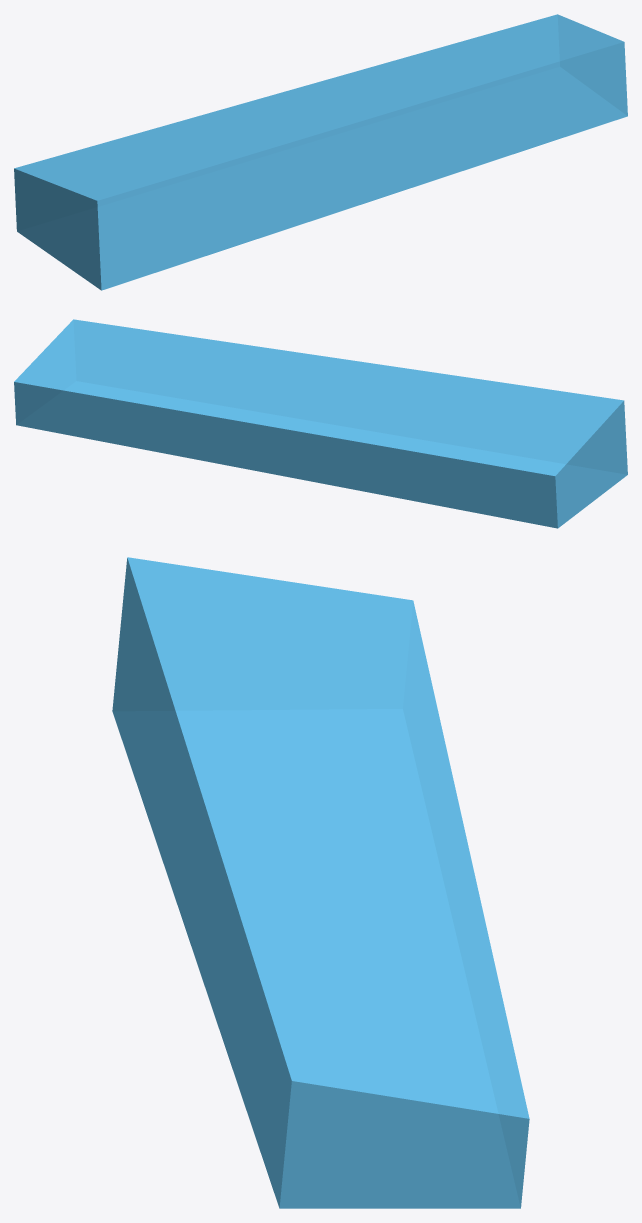
File: Event_420094457_HErechit_84.fbx
3 renders of one model, top to bottom at view 1: azimuth 30°, elevation 25°; view 2: azimuth 150°, elevation 25°; view 3: azimuth 270°, elevation 25°, orthographic. The views are drawn at different scales.
Parts seen in each view (by area): view 1: Model; view 2: Model; view 3: Model.
Part boxes in pixels (x1,y1,x2,y2): Model: (14,14,627,290); Model: (14,319,627,528); Model: (112,557,529,1208).
Size of the model in its own units: 2.29 by 0.3294 by 0.8079.
